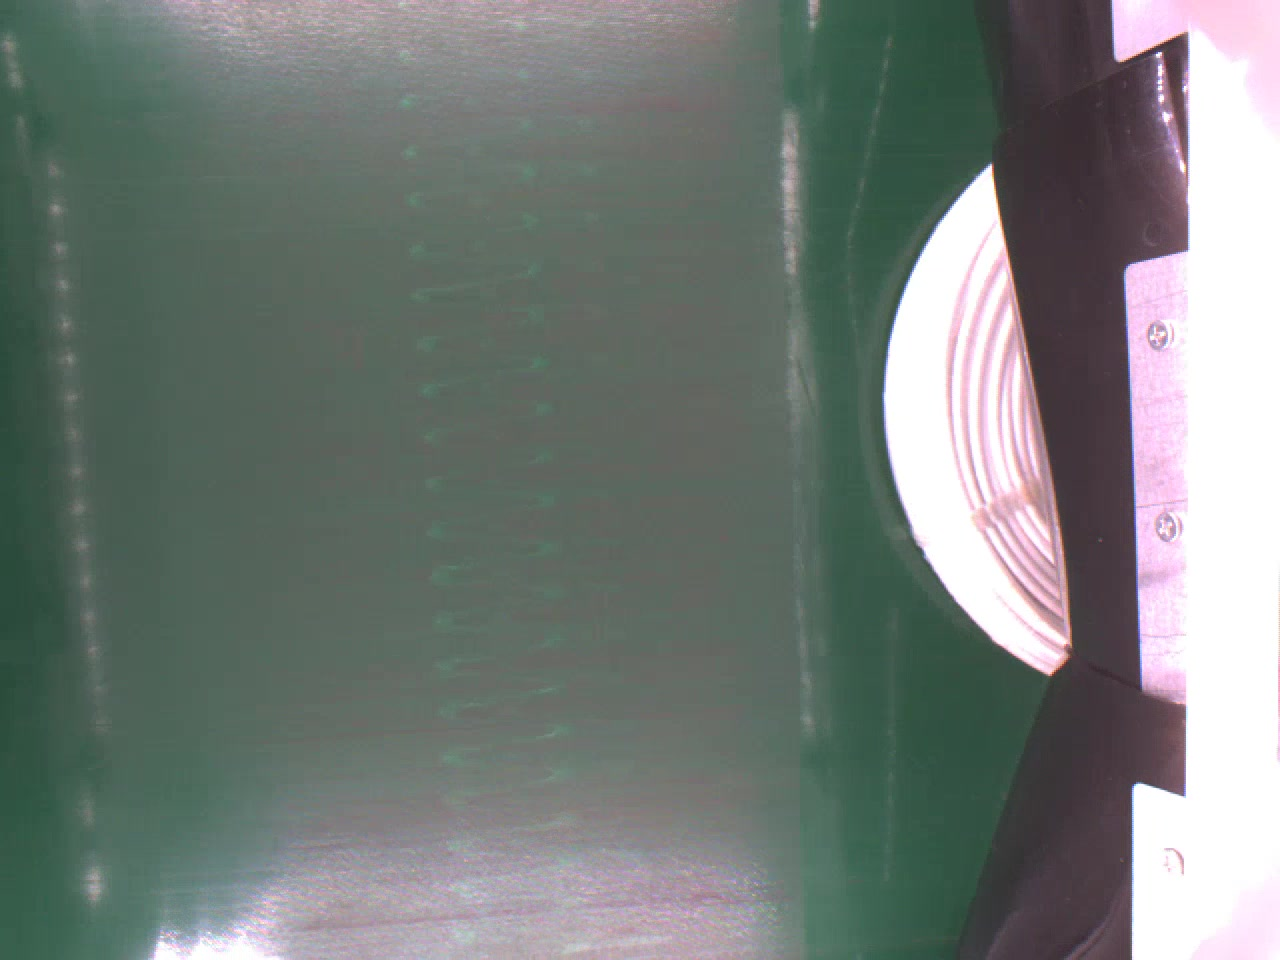white: (881, 145, 1072, 668)
